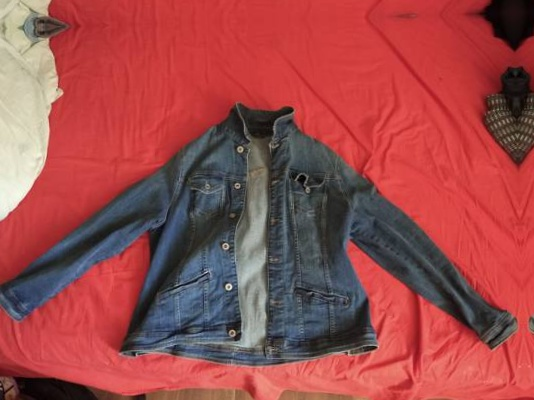Blazer: (0, 95, 510, 390), (531, 78, 534, 373)
